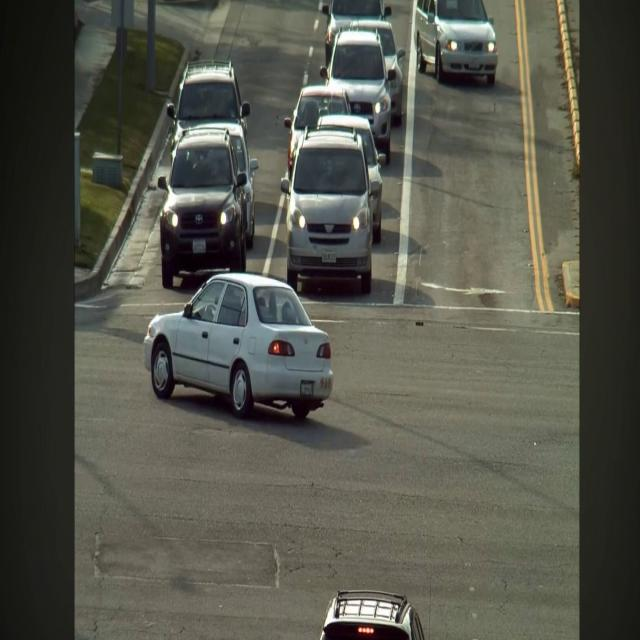car: (144, 273, 332, 418), (281, 128, 380, 294), (158, 128, 247, 288), (320, 30, 396, 163), (318, 115, 385, 244), (199, 123, 258, 249), (415, 0, 498, 85), (167, 60, 250, 145), (284, 85, 350, 176), (349, 20, 405, 125), (320, 591, 424, 639), (321, 0, 391, 65)
